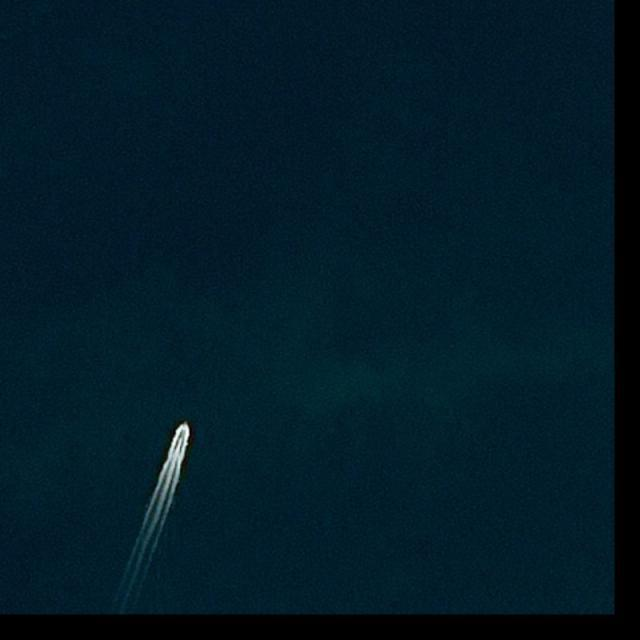ship: (179, 422, 189, 438)
